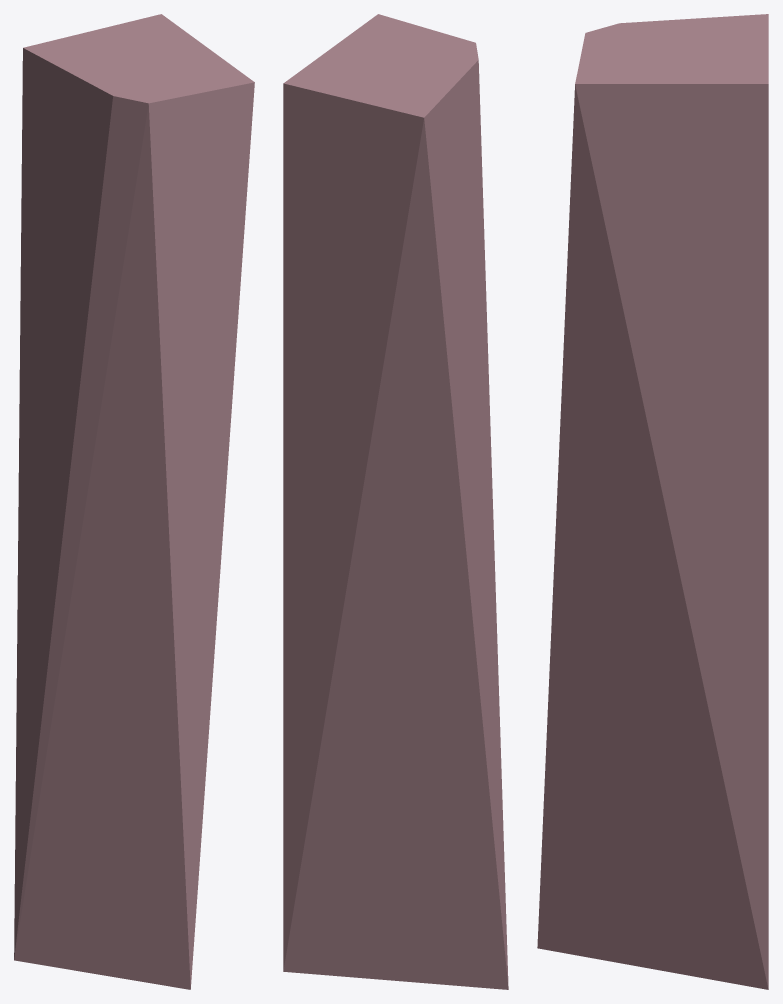
The model's file is simple_example_hole_part_26.obj.
3 renders of one model, left to right at view 1: azimuth 30°, elevation 25°; view 2: azimuth 150°, elevation 25°; view 3: azimuth 270°, elevation 25°, orthographic. The views are drawn at different scales.
Size of the model in its own units: 9.22 by 41.73 by 9.65.
